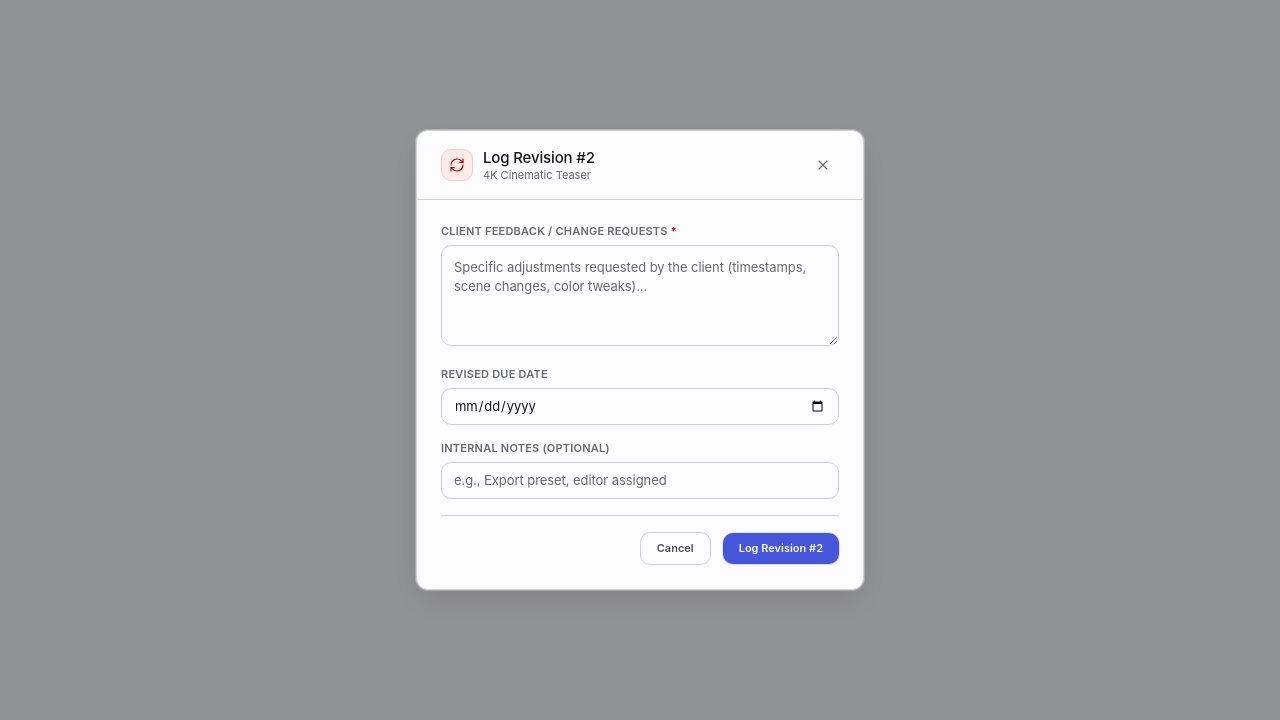
Test: RevisionModal (DELIV-REQ-003) › validates minimum length for feedback
Replace the text in the text box labelled "Client Feedback / Change Requests *" with "Bad": (640, 296) [441,245,839,346]
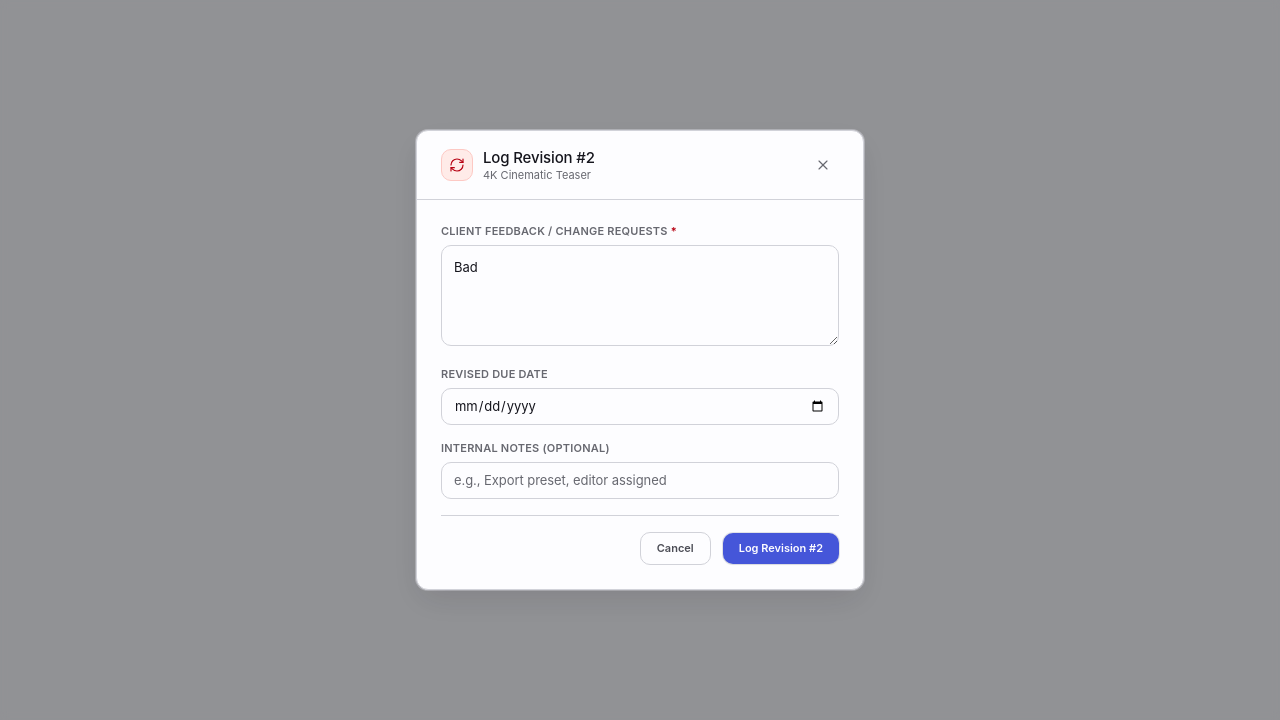
Click the button with test id "revision-submit-btn": (781, 548) [723,533,839,564]
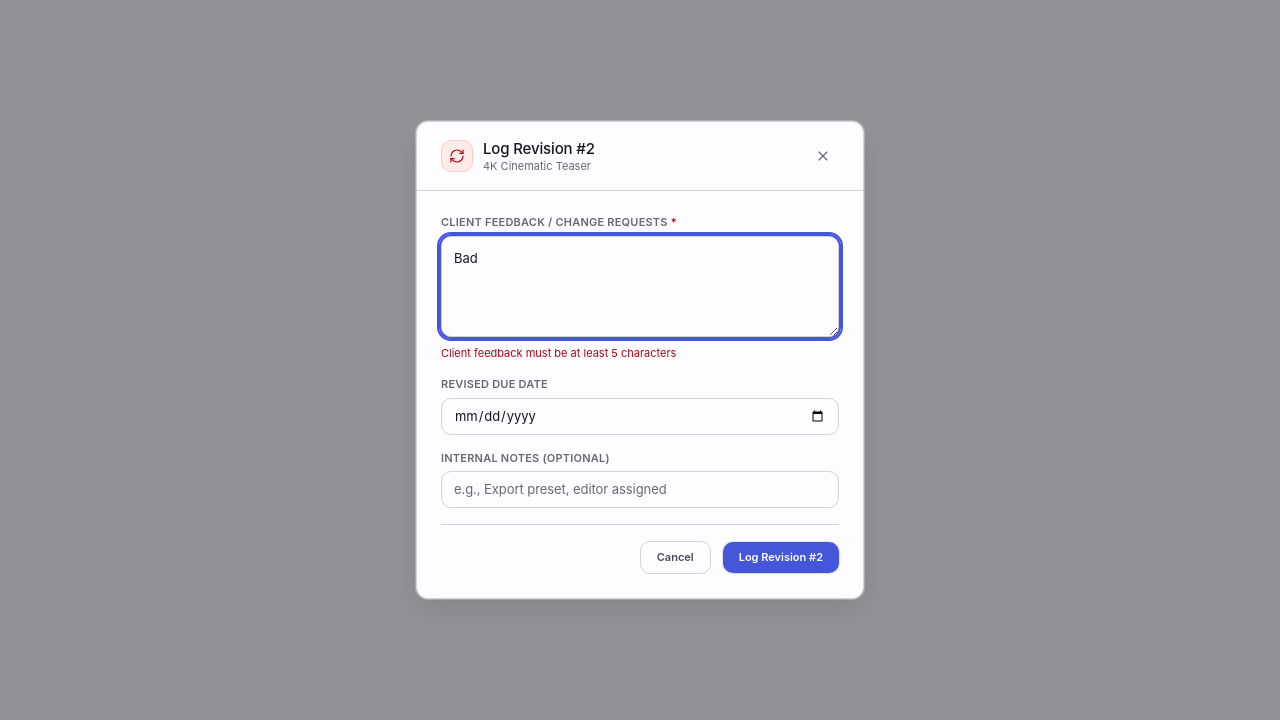
Check: the text "Client feedback must be at least 5 characters" is shown, box [441,346,676,360]
